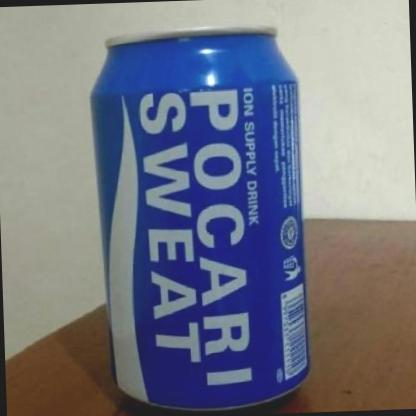alumunium_can: (73, 16, 329, 416)
